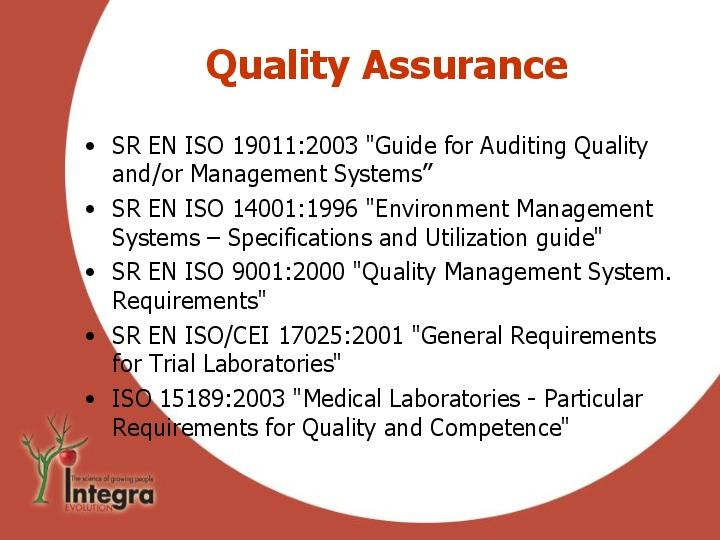paragraph: (72, 118, 683, 458)
title: (195, 28, 588, 105)
